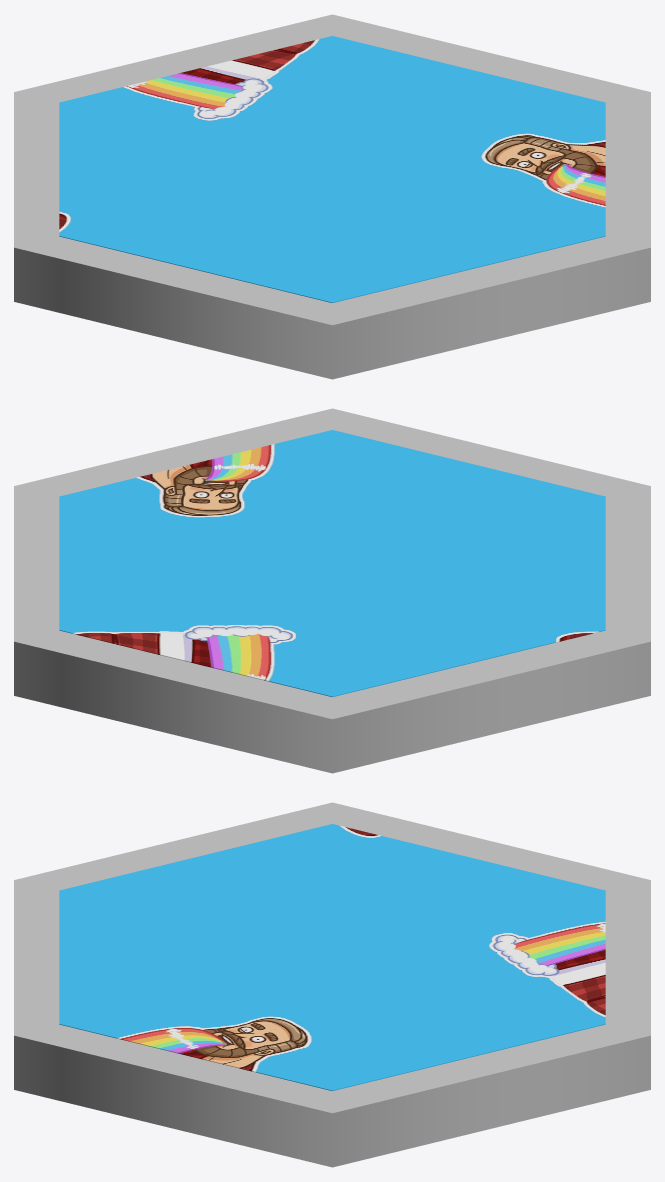
The model's file is Puzzle_1.FBX.
3 views of the same model, one above another, from view 1: azimuth 30°, elevation 25°; view 2: azimuth 150°, elevation 25°; view 3: azimuth 270°, elevation 25° (orthographic).
Parts seen in each view (by area): view 1: Cylinder001, D_007, D_008; view 2: Cylinder001, D_008, D_007; view 3: Cylinder001, D_008, D_007.
Boxes of the visible parts, left/top/right/bottom form: Cylinder001: left=14, top=14, right=650, bottom=379; D_007: left=59, top=102, right=605, bottom=302; D_008: left=59, top=36, right=605, bottom=235; Cylinder001: left=14, top=408, right=650, bottom=773; D_008: left=59, top=496, right=605, bottom=696; D_007: left=59, top=430, right=605, bottom=629; Cylinder001: left=14, top=802, right=650, bottom=1167; D_008: left=332, top=824, right=605, bottom=1090; D_007: left=59, top=824, right=332, bottom=1090.
Bounding box in the file's own units: 4 × 0.3294 × 3.46.
